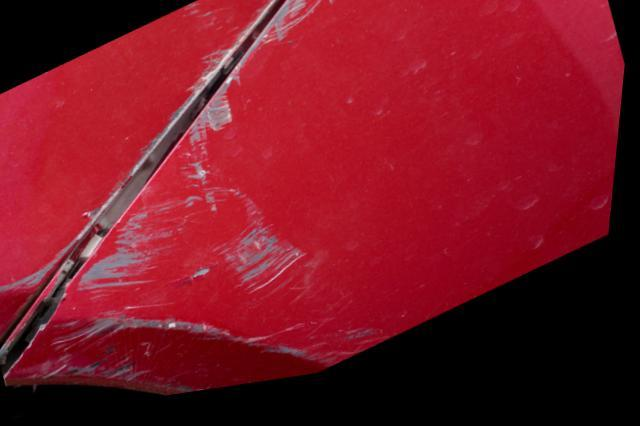scratch: (22, 0, 402, 401)
